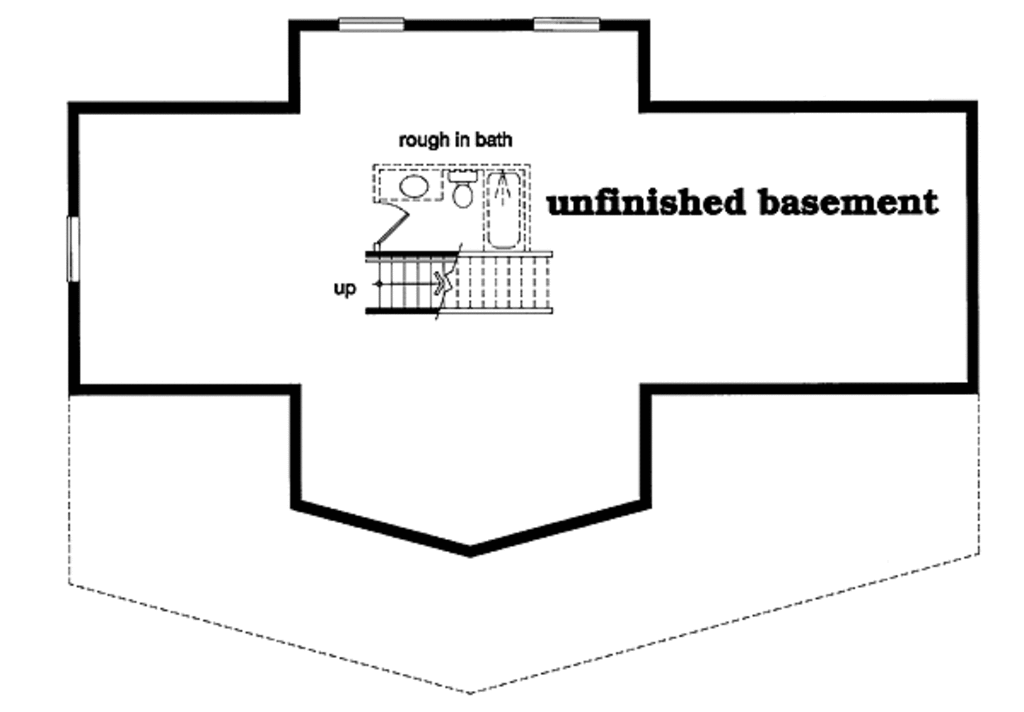door: (369, 194, 409, 251)
large_sink: (447, 166, 480, 216)
small_sink: (375, 163, 440, 205)
stairs: (360, 246, 543, 323)
tub: (484, 161, 535, 254)
window: (52, 210, 82, 285), (532, 11, 600, 37), (337, 16, 404, 36)
